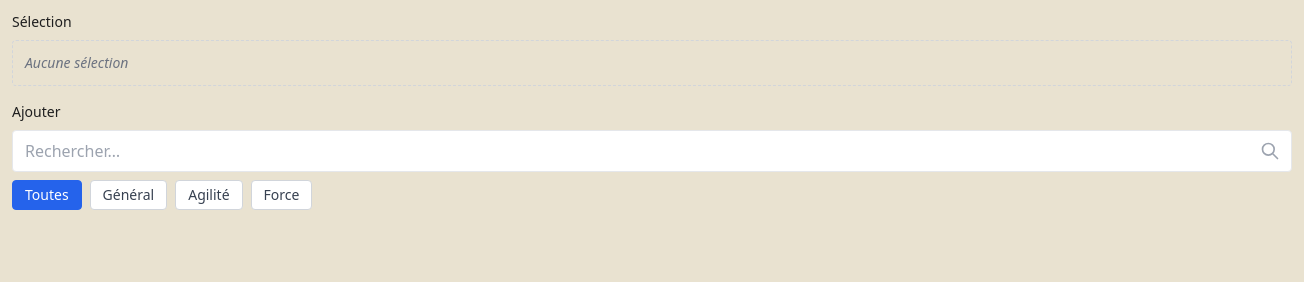
Test: ChipMultiSelect › filtre les suggestions par groupe
The width and height of the screenshot is (1304, 282).
Click the button "Force": (281, 195) [250,180,312,210]
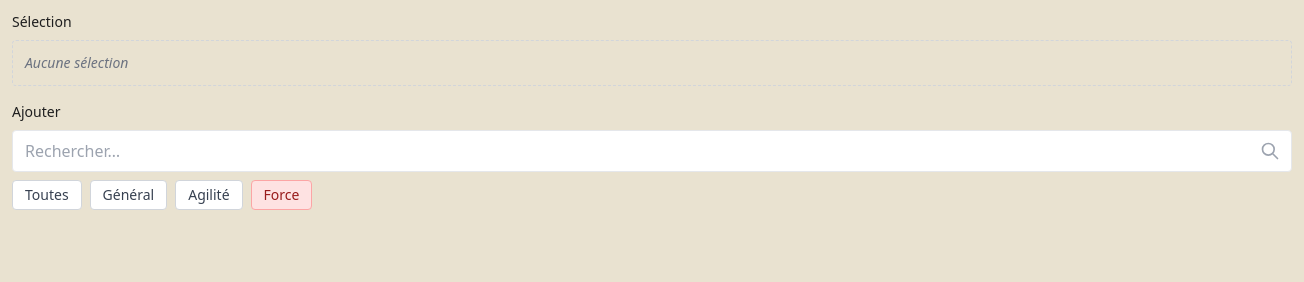
Focus the field with test id "pick-search": (652, 151) [12,130,1292,172]
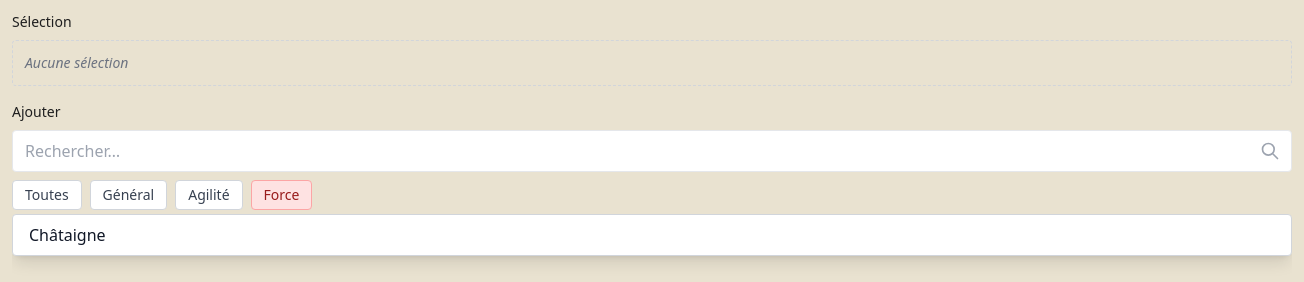
Result: the button with test id "pick-option-mighty-blow" is shown at [13,215,1291,255]
